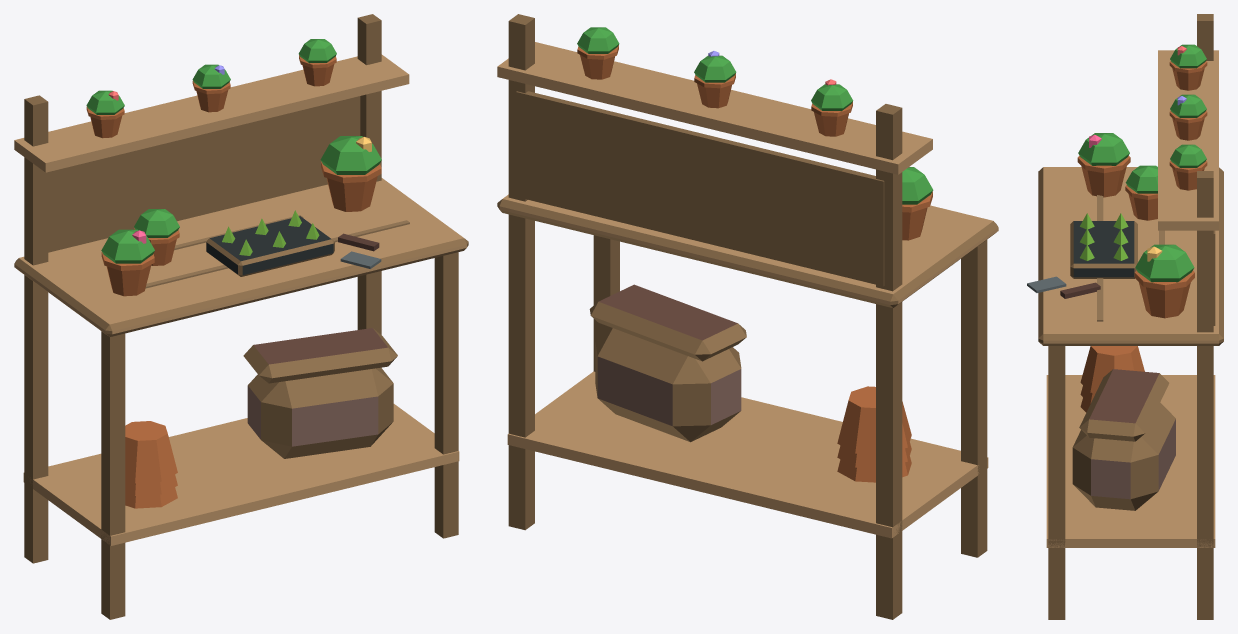
File: pflanztisch.glb
3 renders of one model, left to right at view 1: azimuth 30°, elevation 25°; view 2: azimuth 150°, elevation 25°; view 3: azimuth 270°, elevation 25°, orthographic. The views are drawn at different scales.
Visible parts, largest first — view 1: pflanztisch-m; view 2: pflanztisch-m; view 3: pflanztisch-m.
Part boxes in pixels (left/top/right/bottom): pflanztisch-m: left=14, top=14, right=468, bottom=619; pflanztisch-m: left=497, top=14, right=998, bottom=619; pflanztisch-m: left=1027, top=14, right=1223, bottom=619.
Bounding box in the file's own units: 1.2 × 1.45 × 0.5833.
